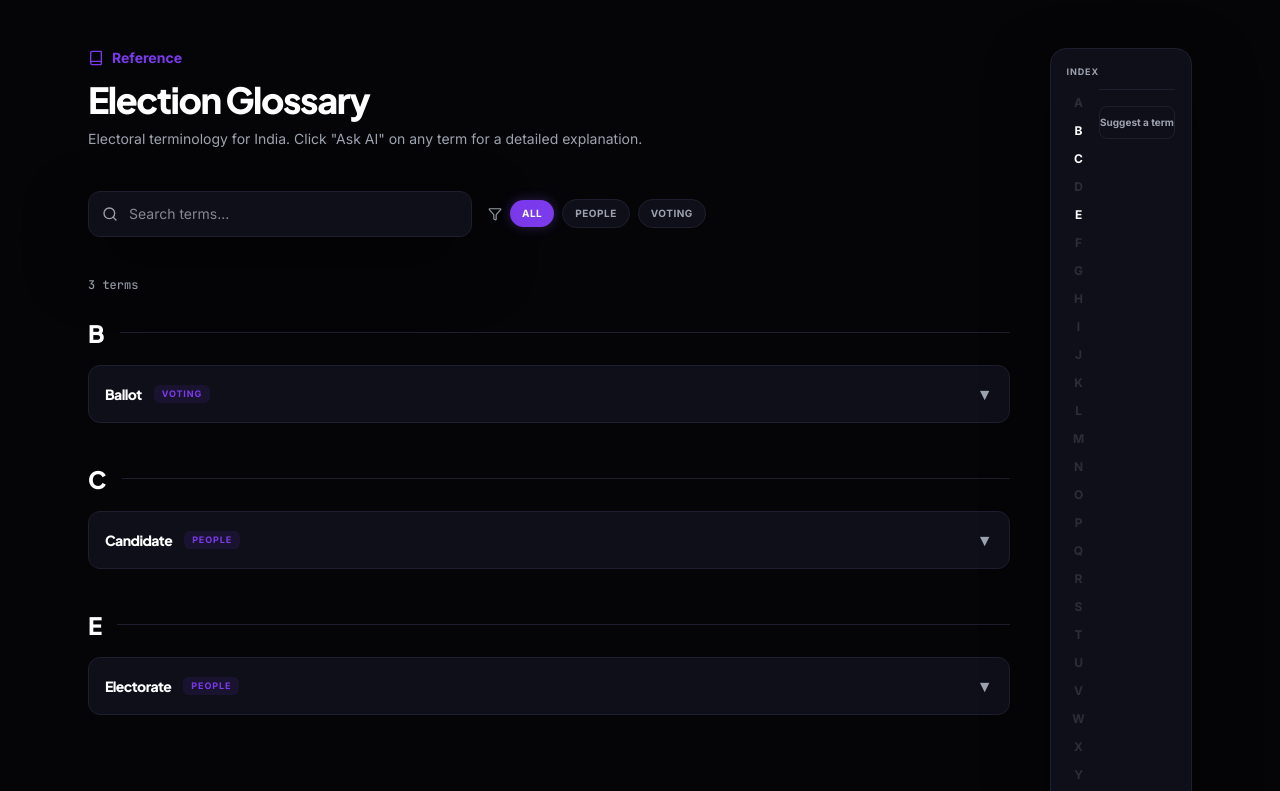
Test case: Glossary Page › clears filters when clear button is clicked
Type "Nonexistent" into the field with placeholder "Search terms..." at x=280, y=214, box [88, 191, 472, 237]
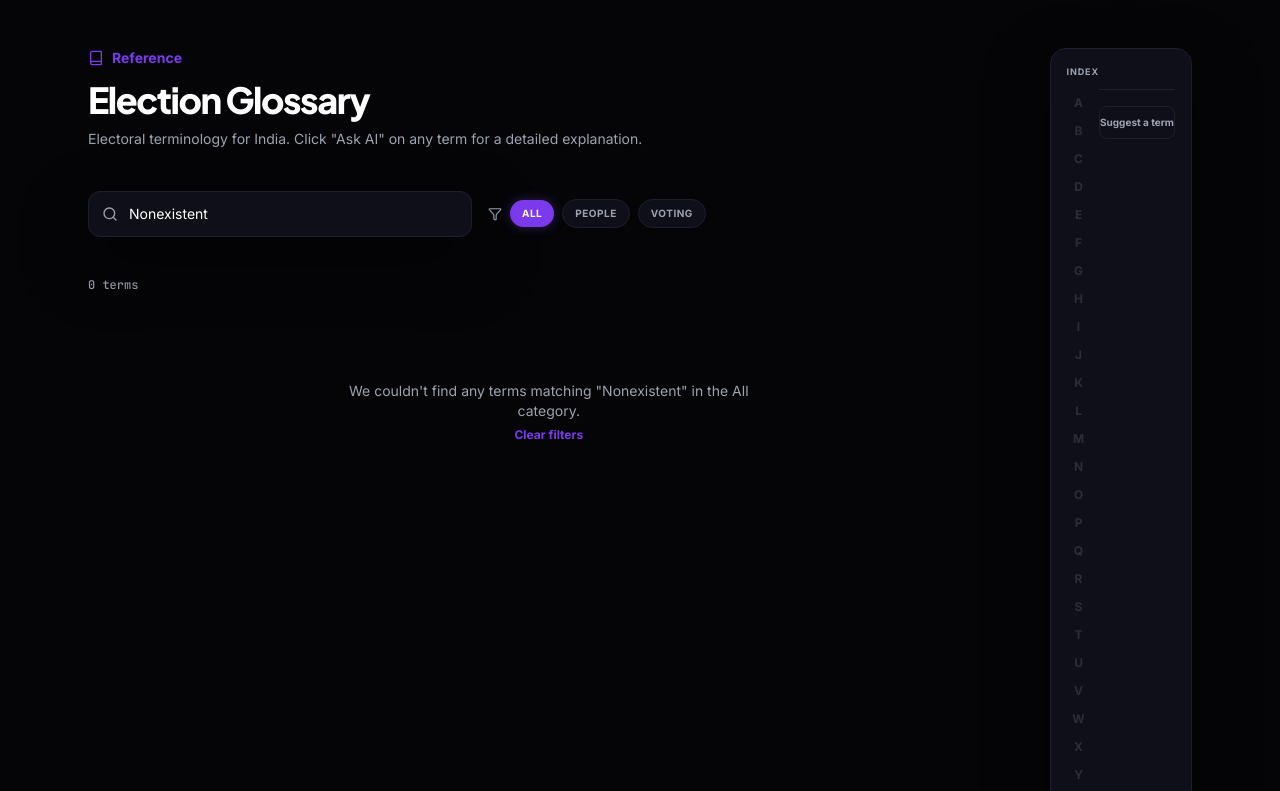
Expected: the text "0 terms" is shown, [88, 277, 138, 293]
Click the button "Clear filters" at x=549, y=435, box [514, 427, 583, 443]
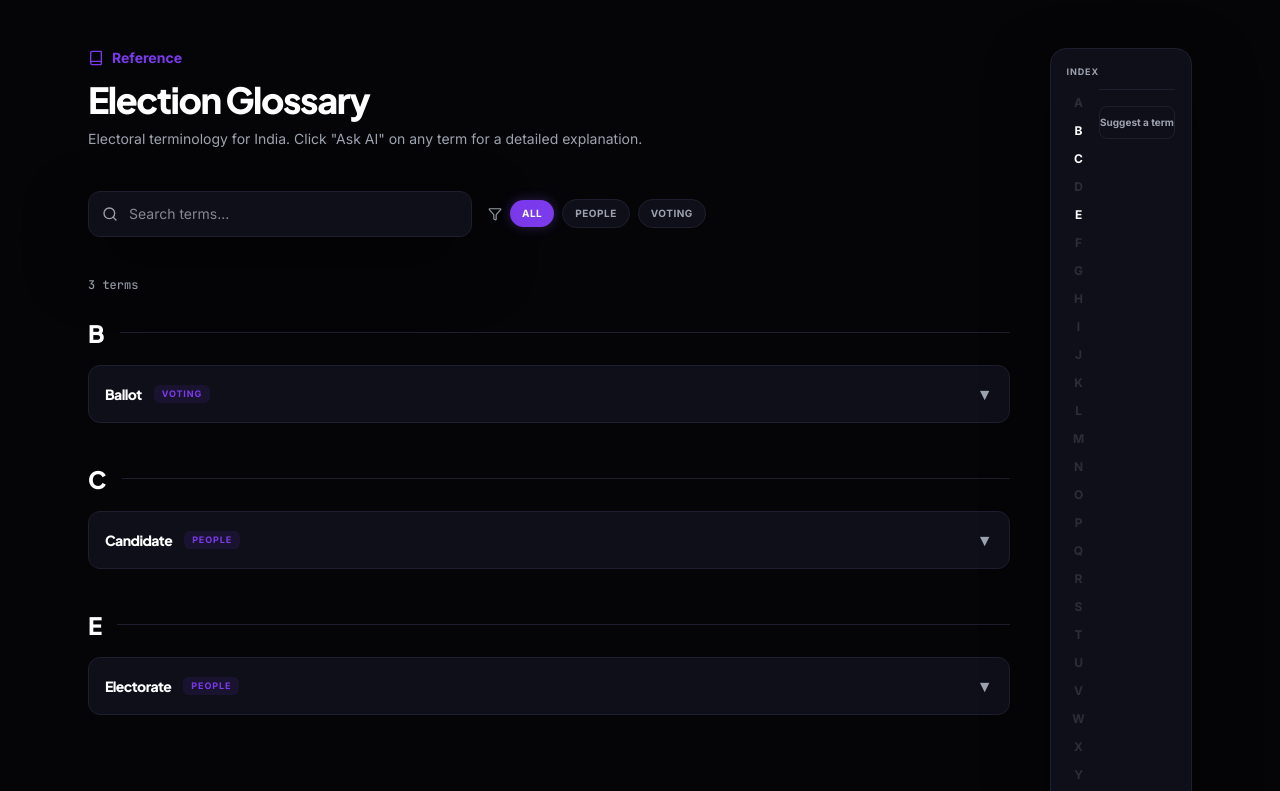
Expected: the field with placeholder "Search terms..." is empty, [88, 191, 472, 237]
Expected: the text "3 terms" is shown, [88, 277, 138, 293]
